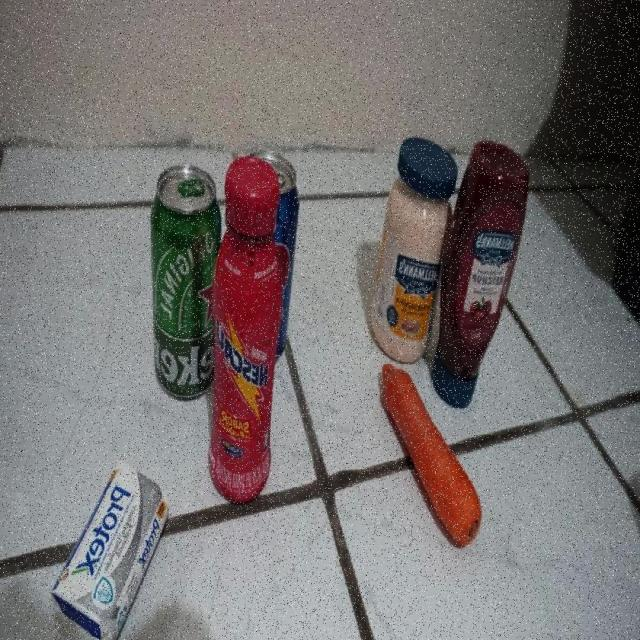BeerCan: (150, 162, 216, 400)
Carrot: (384, 370, 481, 550)
ChocolateMilk: (210, 162, 280, 501)
Ketchup: (445, 144, 531, 416)
Mayonnaise: (369, 142, 454, 356)
Soap: (50, 460, 169, 640)
SodaCan: (274, 162, 299, 368)
